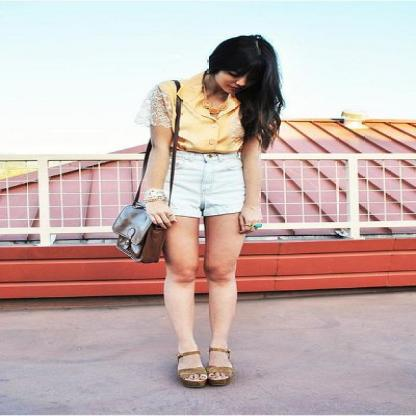bag: (88, 125, 171, 263)
shirt: (152, 76, 242, 158)
shorts: (162, 151, 244, 379)
